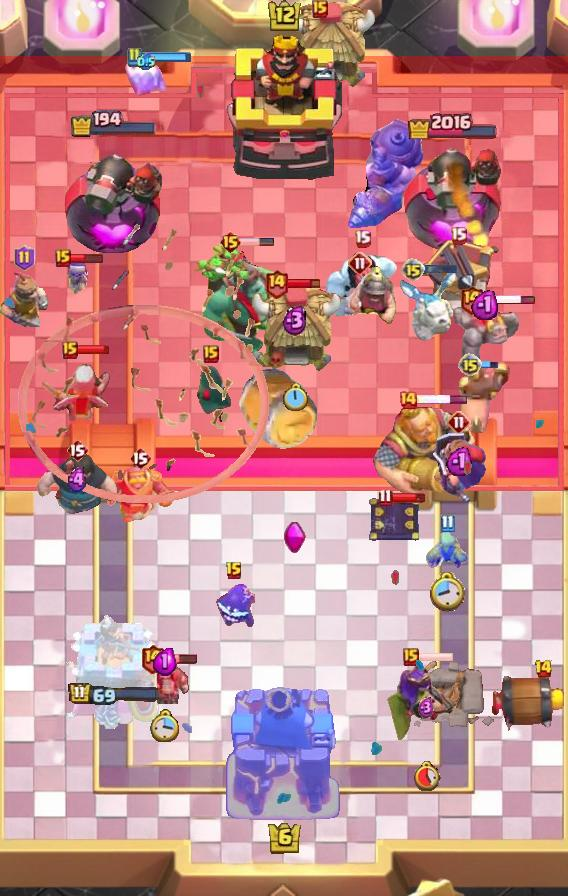bandit: (324, 266, 396, 332)
barbarian-hut: (385, 662, 467, 746)
bowler: (140, 660, 190, 704)
dirt: (234, 365, 320, 453)
earthquake: (0, 267, 50, 327)
electro-spirit: (471, 288, 498, 320), (282, 304, 308, 336), (446, 445, 472, 476), (153, 646, 177, 676), (66, 467, 91, 493), (418, 697, 434, 719), (137, 53, 155, 71)
elixir: (429, 571, 465, 612), (150, 710, 180, 742), (412, 760, 440, 791), (282, 383, 308, 413)
elixir-golem-big: (428, 431, 490, 505)
emote: (480, 293, 535, 306), (140, 51, 192, 63), (415, 395, 469, 406), (286, 277, 321, 290), (418, 651, 455, 663), (390, 492, 426, 504), (162, 653, 198, 665), (68, 252, 103, 264), (76, 344, 110, 356), (422, 264, 458, 275), (239, 237, 275, 247), (480, 358, 500, 370)
firecracker: (106, 465, 175, 522)
freeze: (459, 362, 511, 434)
giant-skeleton: (368, 405, 476, 501)
goblin: (62, 259, 94, 299)
ice-spirit-evolution-symbol: (368, 494, 422, 544)
king-tower: (223, 680, 345, 826), (226, 33, 342, 181)
lava-hound: (194, 238, 300, 356)
lava-pup: (414, 239, 502, 321)
mini-pekka: (397, 268, 461, 344)
mirror: (123, 58, 169, 100)
poison: (37, 355, 123, 431)
prince: (282, 0, 376, 90), (248, 284, 342, 374)
queen-tower: (65, 614, 162, 730)
rage: (324, 249, 400, 305)
royal-hog: (34, 453, 120, 527)
selected: (407, 110, 499, 139), (70, 110, 158, 138), (68, 682, 160, 707)
skeleton-barrel: (17, 223, 271, 503)
skeleton-king-skill: (283, 520, 307, 555)
spear-goblin: (213, 584, 255, 630)
tesla: (189, 366, 233, 426)
text: (263, 268, 288, 299), (460, 284, 485, 315), (140, 643, 165, 673), (348, 251, 372, 275), (401, 258, 425, 282), (458, 353, 482, 377), (447, 410, 471, 434), (219, 230, 242, 254), (14, 245, 35, 271), (66, 438, 88, 462), (129, 446, 151, 470), (398, 390, 418, 410), (535, 659, 554, 679), (225, 561, 243, 581), (449, 227, 467, 245), (353, 229, 371, 247), (126, 47, 142, 67), (312, 0, 328, 18), (55, 249, 71, 267), (62, 341, 78, 359), (203, 345, 219, 363), (403, 648, 419, 666), (378, 489, 393, 508), (440, 514, 455, 533)
the-log: (488, 671, 568, 731)
tower-bar: (404, 138, 505, 256), (64, 138, 164, 256)
valkyrie-evolution: (449, 303, 519, 369)
wizard: (345, 117, 427, 231)
zap: (425, 528, 469, 570)
